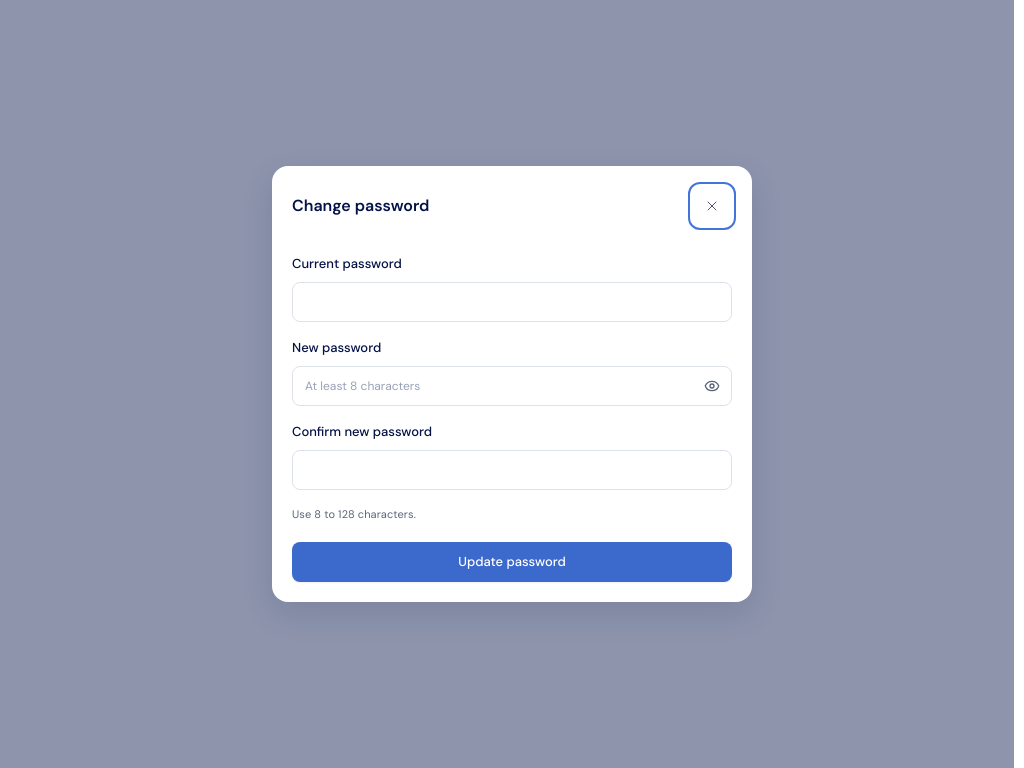
ChangePasswordModal › shows a field-level error beside Current Password on a wrong-credential failure, and does not close
Type "wrongpass" into the password field labelled "Current password" at (512, 302), box [292, 282, 732, 322]
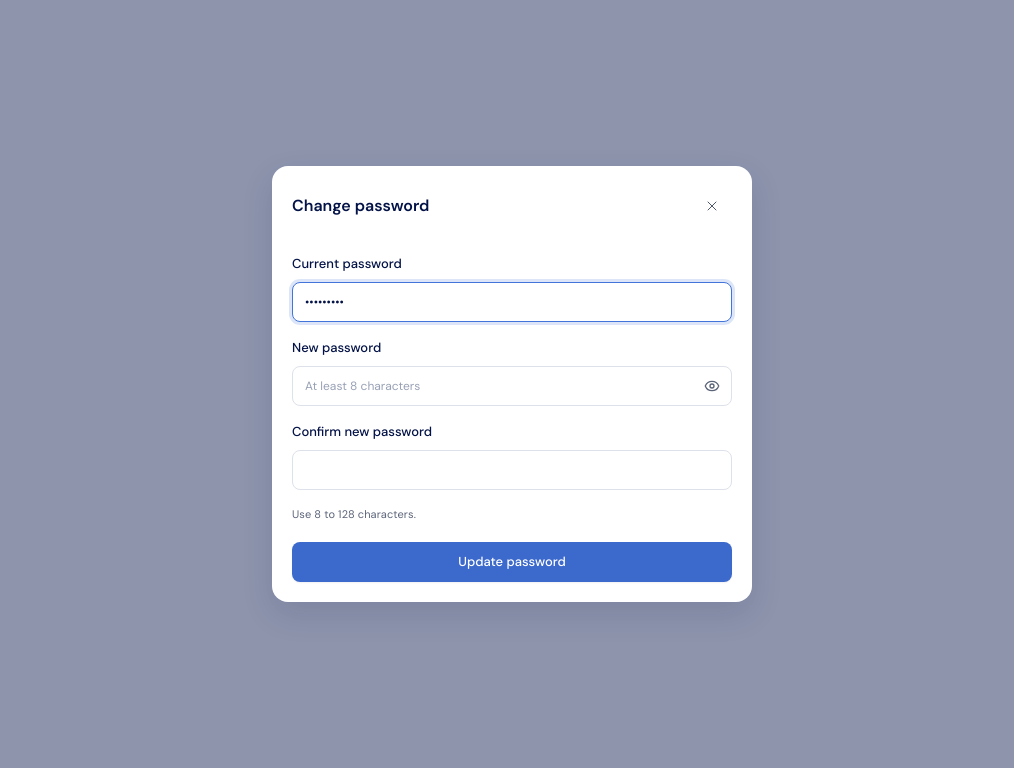
Type "newpass1" into the password field labelled "New password" at (512, 386), box [292, 366, 732, 406]
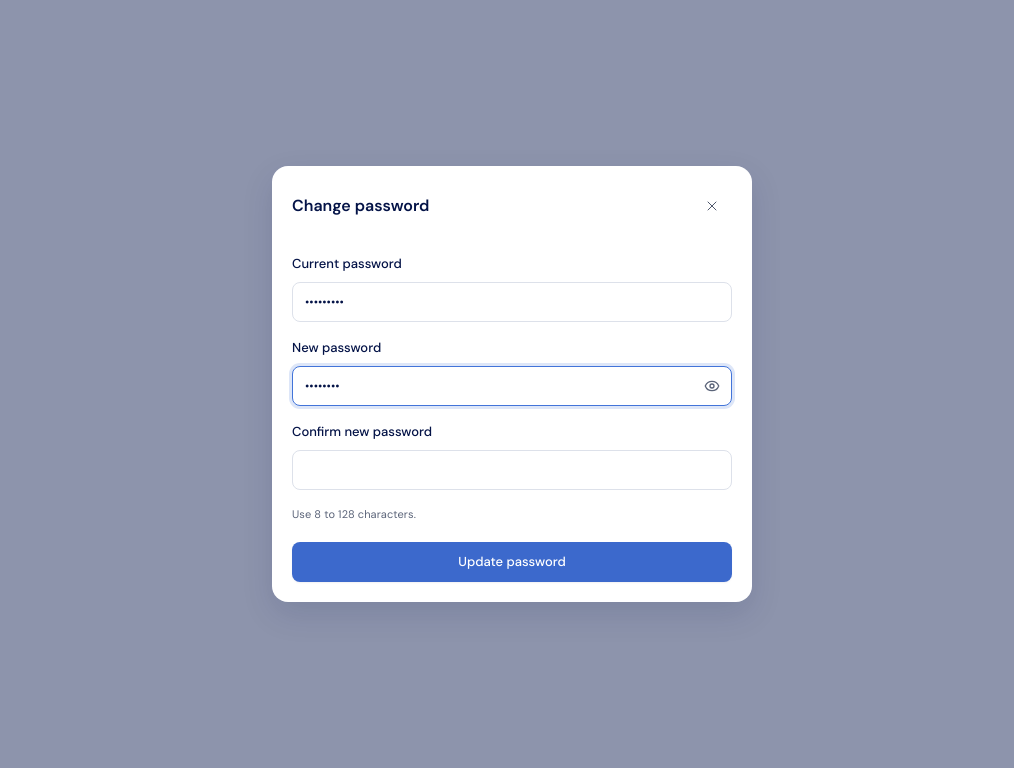
Type "newpass1" into the password field labelled "Confirm new password" at (512, 470), box [292, 450, 732, 490]
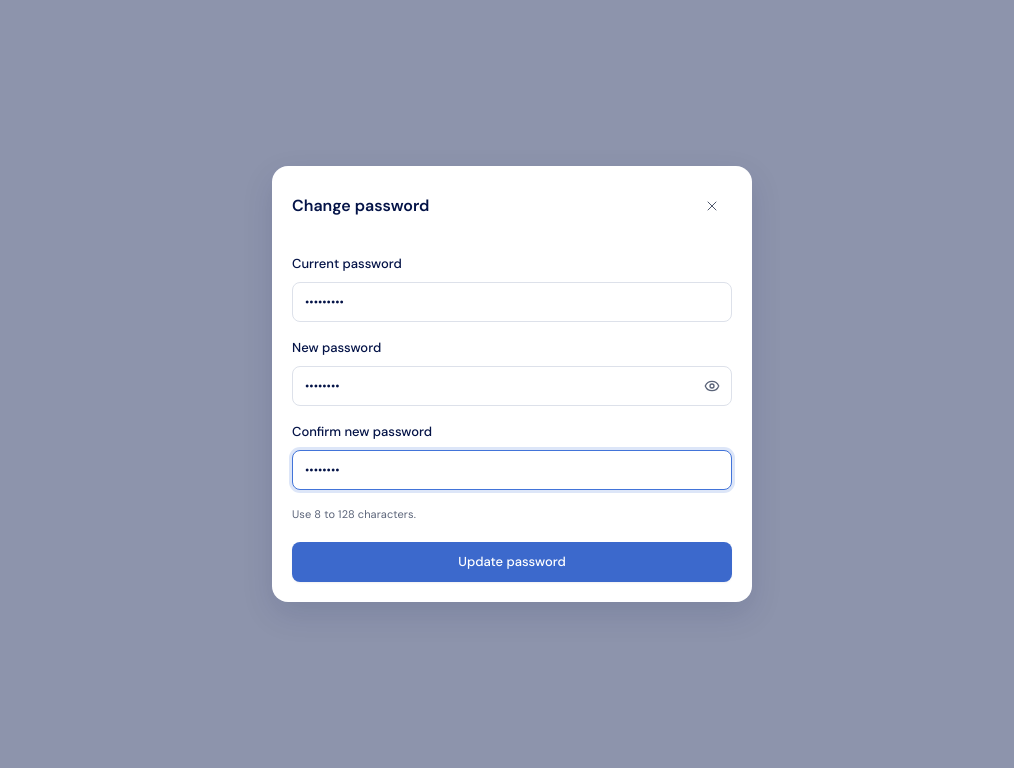
Click the button "Update password" at (512, 562), box [292, 542, 732, 582]
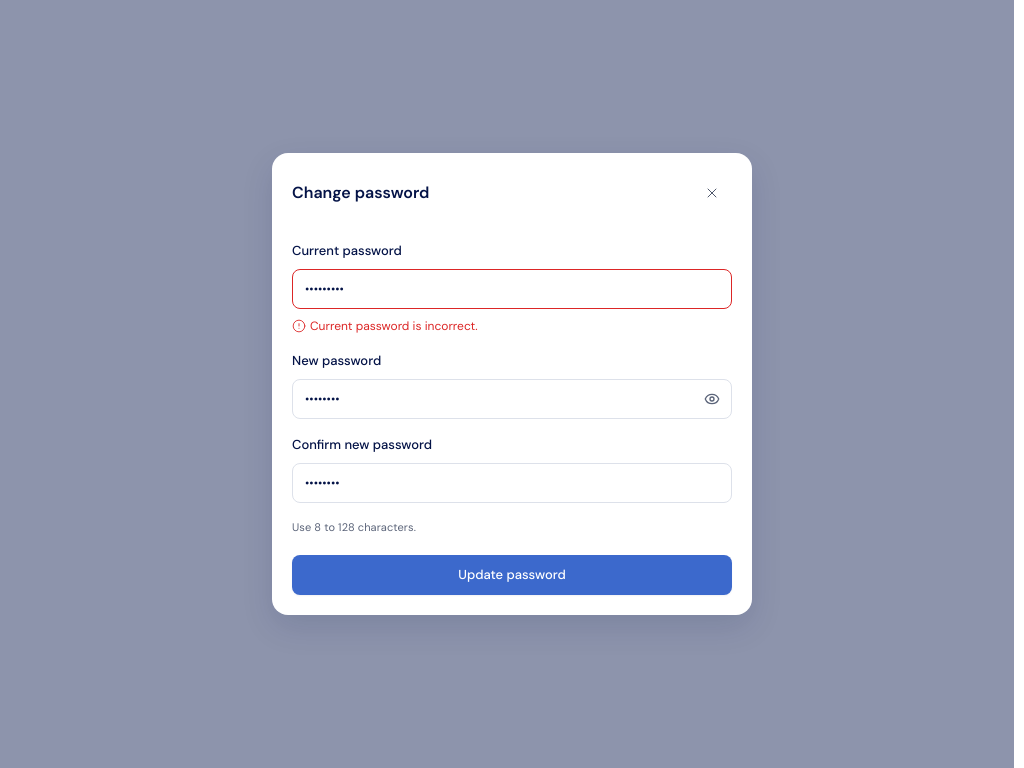
Expected: the text "Current password is incorrect." is shown, [292, 318, 478, 334]
